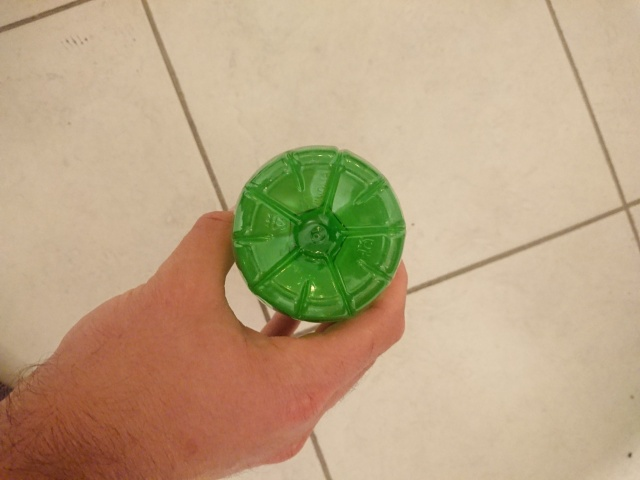Vindi Iso Sport Lemon-Grapefruit 500mL: (227, 142, 410, 326)
